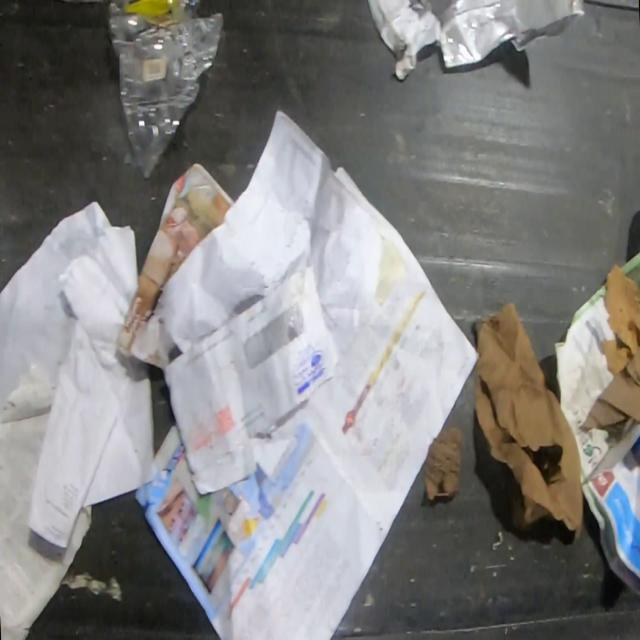cardboard: (472, 300, 582, 539), (581, 263, 640, 430), (423, 424, 462, 502)
rigid_plastic: (108, 1, 226, 178)
